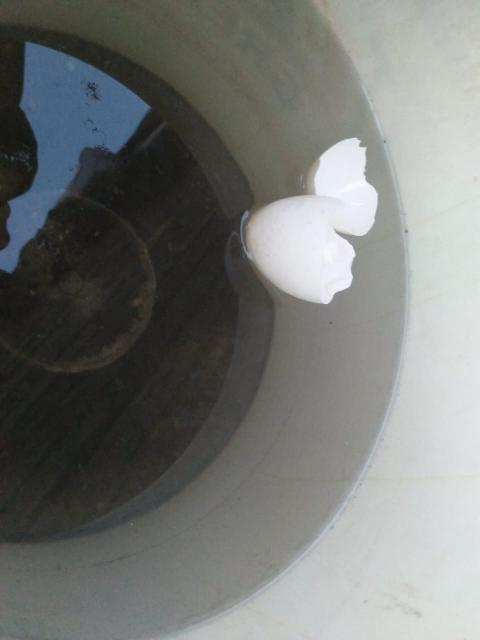Roto: (243, 196, 357, 307), (304, 136, 378, 236)
